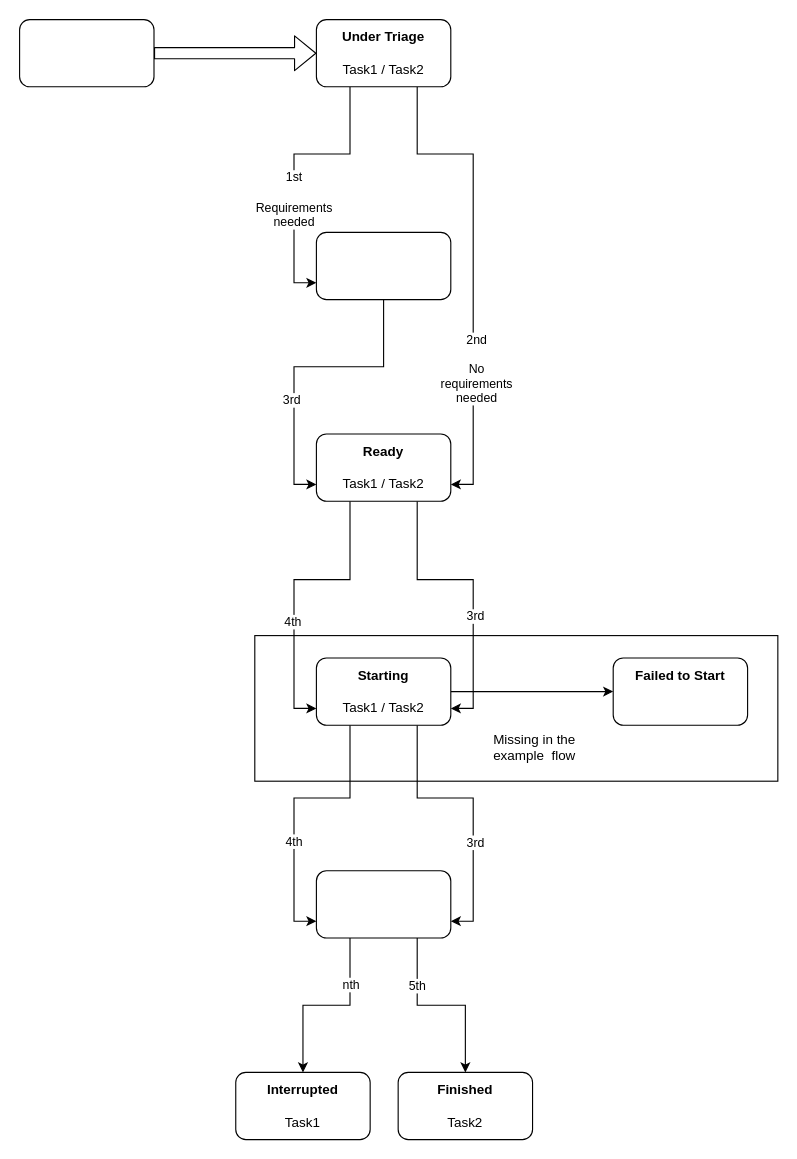
Image size: 797x1159. Some labels were removed from this diagram. The shapes that lost their labels are listed below. From the top down, each one's centre as x and y in pixels, then its label:
the point at 86,52: Requested test_suite Task1 / Task2
the point at 383,265: Preparing Task1
the point at 383,904: Started Task1 / Task2
